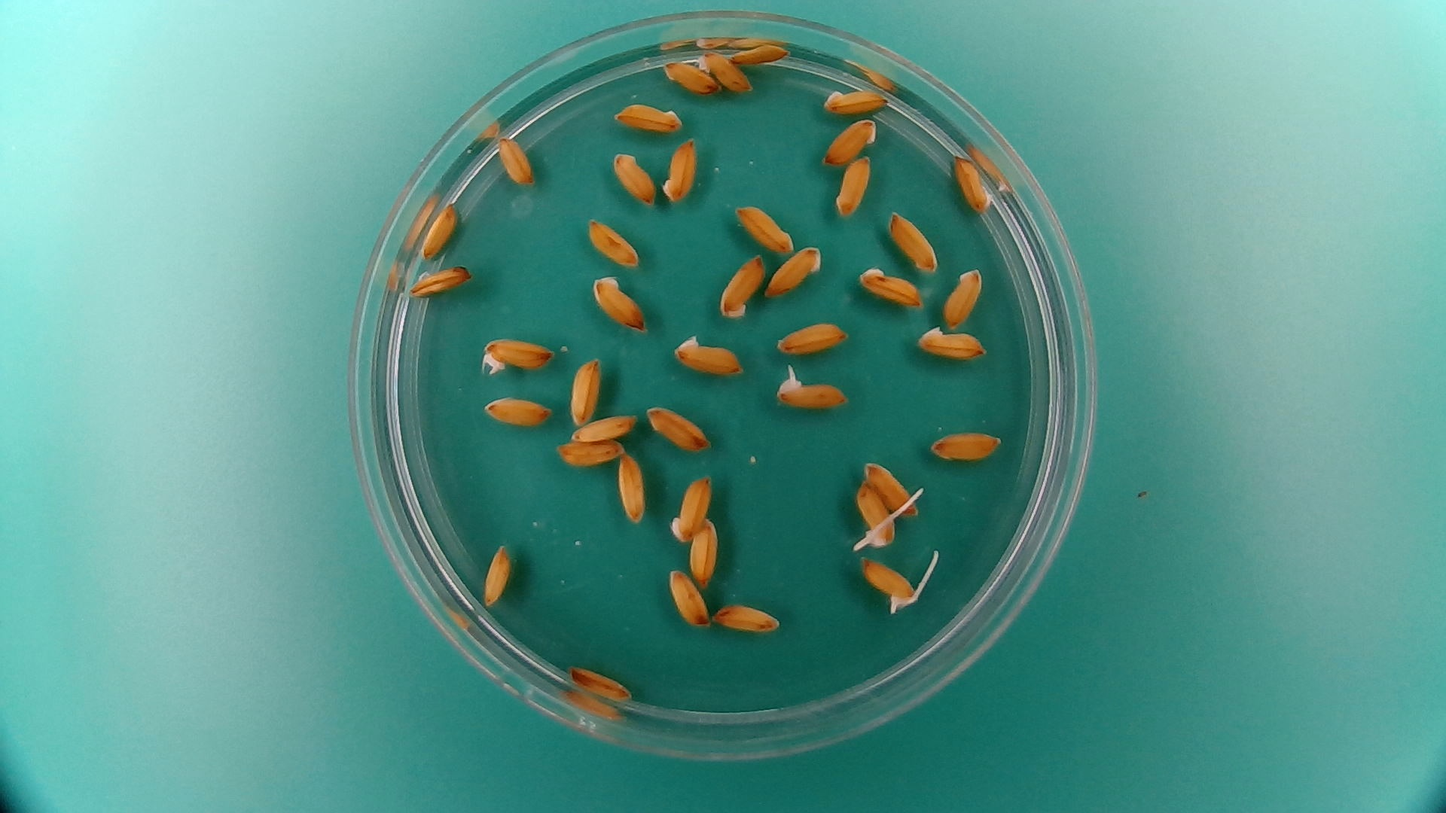no: (588, 271, 649, 335), (861, 456, 924, 517), (761, 242, 825, 300), (885, 207, 940, 273), (642, 402, 712, 453), (716, 251, 767, 321), (669, 330, 746, 376), (667, 470, 713, 544), (733, 202, 796, 254), (819, 114, 880, 166), (855, 264, 925, 309), (584, 215, 641, 269), (913, 322, 990, 361), (773, 318, 852, 356), (609, 148, 657, 208), (659, 134, 700, 204), (941, 265, 985, 330), (665, 564, 709, 629), (926, 427, 1005, 463), (950, 151, 994, 215), (566, 662, 634, 703), (566, 354, 602, 428), (610, 99, 685, 134), (480, 393, 554, 428), (697, 47, 752, 94), (418, 199, 460, 260), (711, 598, 782, 634), (408, 261, 475, 299), (615, 448, 648, 525), (495, 129, 537, 188), (687, 514, 720, 589), (569, 410, 639, 445), (660, 56, 720, 96), (553, 436, 627, 468), (479, 539, 512, 608), (820, 83, 889, 114), (728, 41, 792, 68)
yes: (856, 553, 924, 614), (475, 331, 558, 378), (771, 364, 853, 410), (852, 477, 898, 550)
